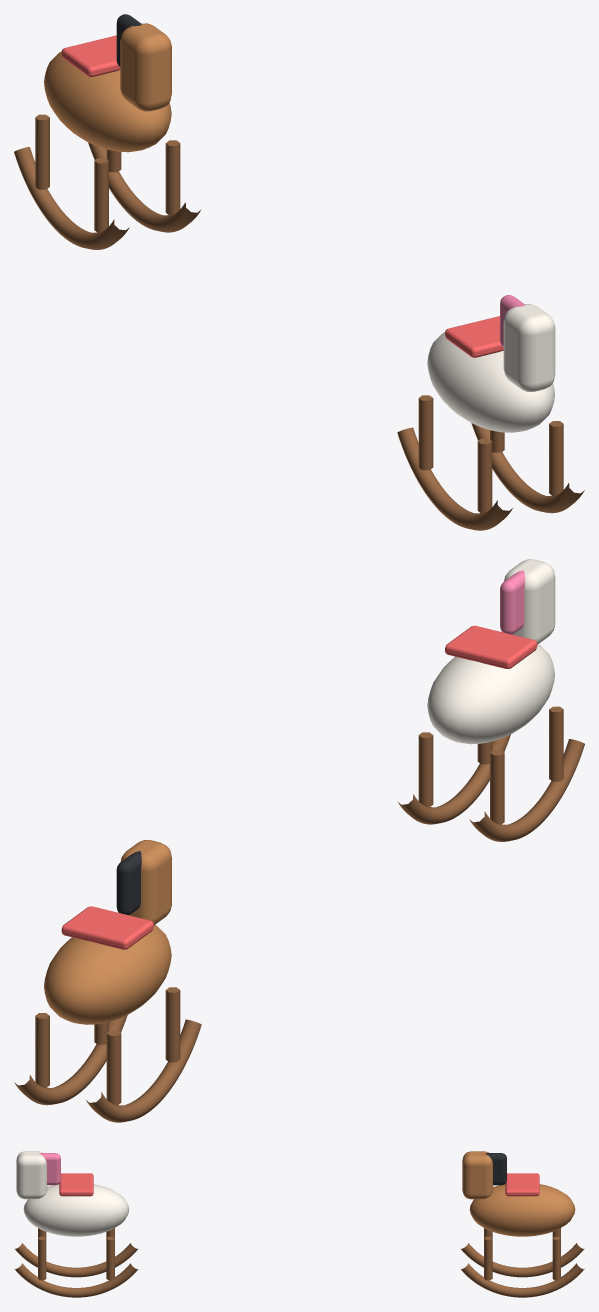
Rendered from kspring-rocker.glb.
The picture shows the model from 3 angles, top to bottom: view 1: azimuth 30°, elevation 25°; view 2: azimuth 150°, elevation 25°; view 3: azimuth 270°, elevation 25°; orthographic projection. The views are drawn at different scales.
Size of the model in its own units: 0.352 by 0.8598 by 3.33.
